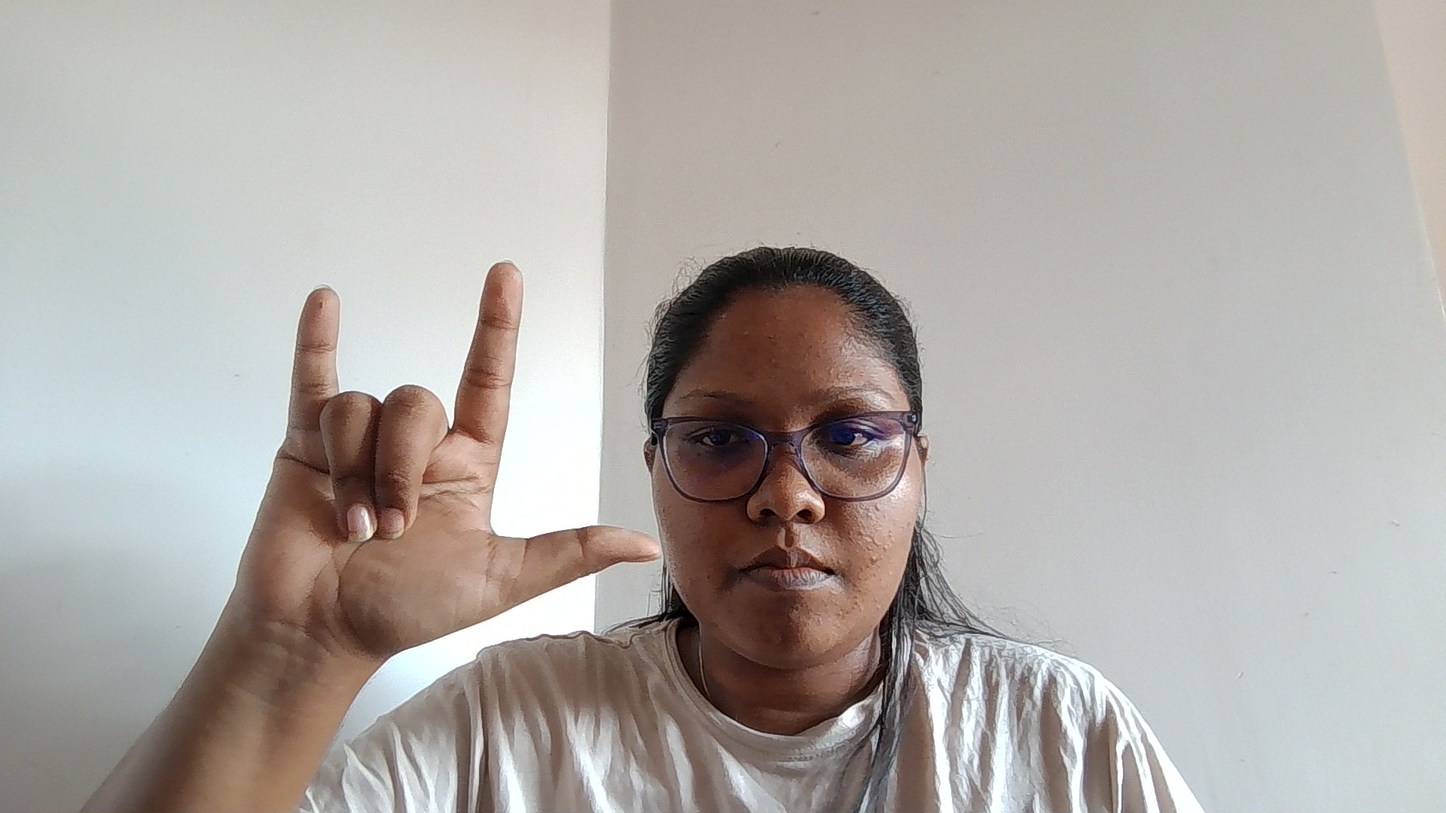I Love You: (245, 215, 690, 709)
